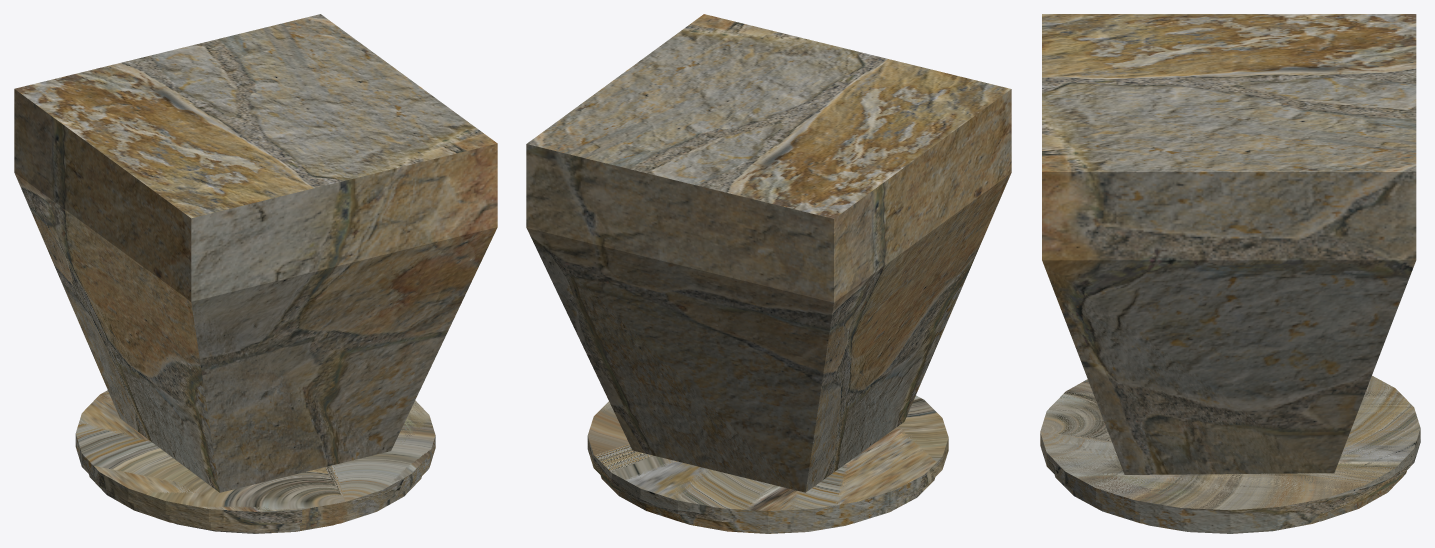
File: pillarMod_Top.fbx
The picture shows the model from 3 angles, left to right: view 1: azimuth 30°, elevation 25°; view 2: azimuth 150°, elevation 25°; view 3: azimuth 270°, elevation 25°; orthographic projection. The views are drawn at different scales.
Parts seen in each view (by area): view 1: Cylinder; view 2: Cylinder; view 3: Cylinder.
Part boxes in pixels (bbox=[...]): Cylinder: bbox=[14, 14, 497, 533]; Cylinder: bbox=[526, 14, 1011, 533]; Cylinder: bbox=[1040, 14, 1420, 533].
Size of the model in its own units: 80 by 86.6 by 80.03.
1 material, 1 textured.
